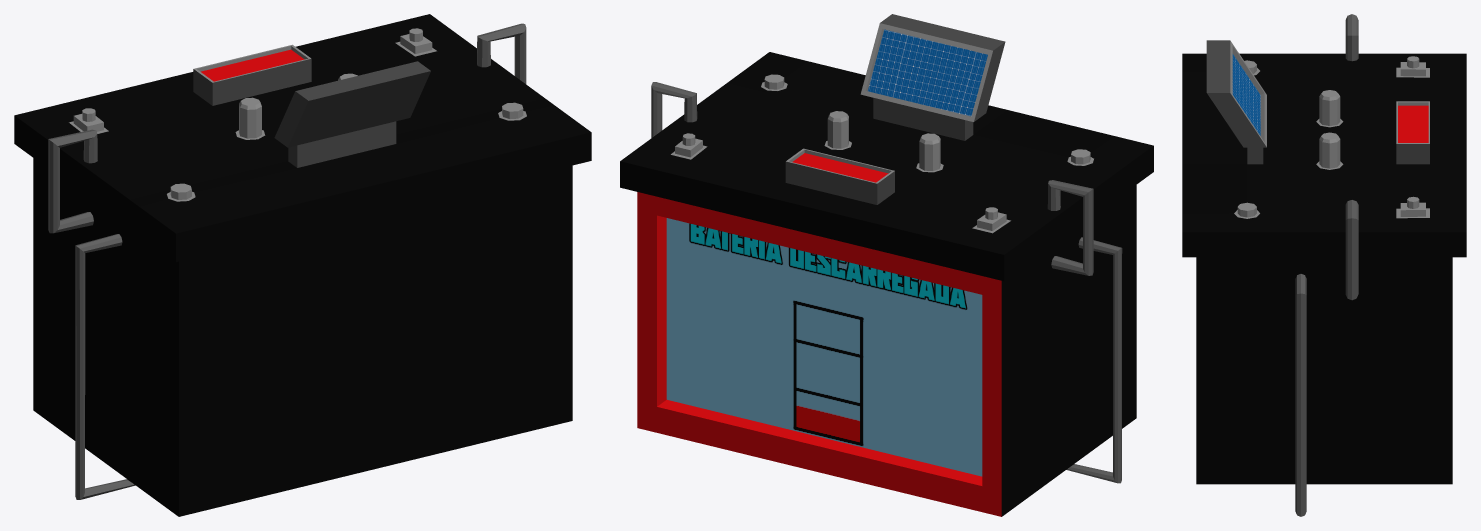
Rendered from BatteryLow.fbx.
3 views of the same model, side by side, from view 1: azimuth 30°, elevation 25°; view 2: azimuth 150°, elevation 25°; view 3: azimuth 270°, elevation 25° (orthographic). The views are drawn at different scales.
Parts seen in each view (by area): view 1: BatteryLow; view 2: BatteryLow; view 3: BatteryLow.
Part boxes in pixels (<box>): BatteryLow: <box>14,14,591,516</box>; BatteryLow: <box>620,14,1153,516</box>; BatteryLow: <box>1182,14,1466,516</box>.
Bounding box in the file's own units: 54.17 × 31.61 × 42.59.
7 materials, 2 textured.
